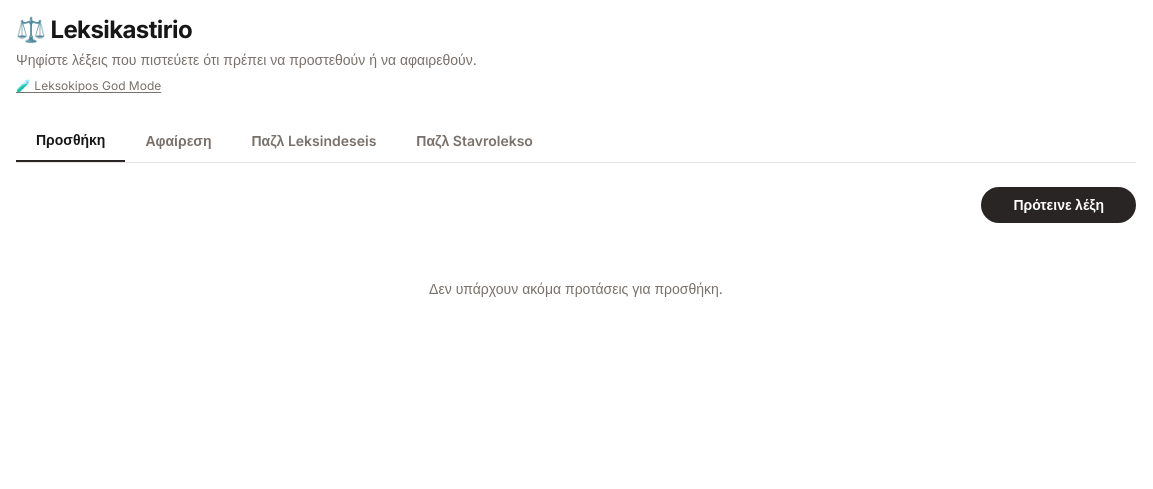
Test: CommunityQueueCard — per-game bodies › stavrolekso shows title and grid meta
Click the button "Παζλ Stavrolekso": (475, 141) [396,120,553,162]
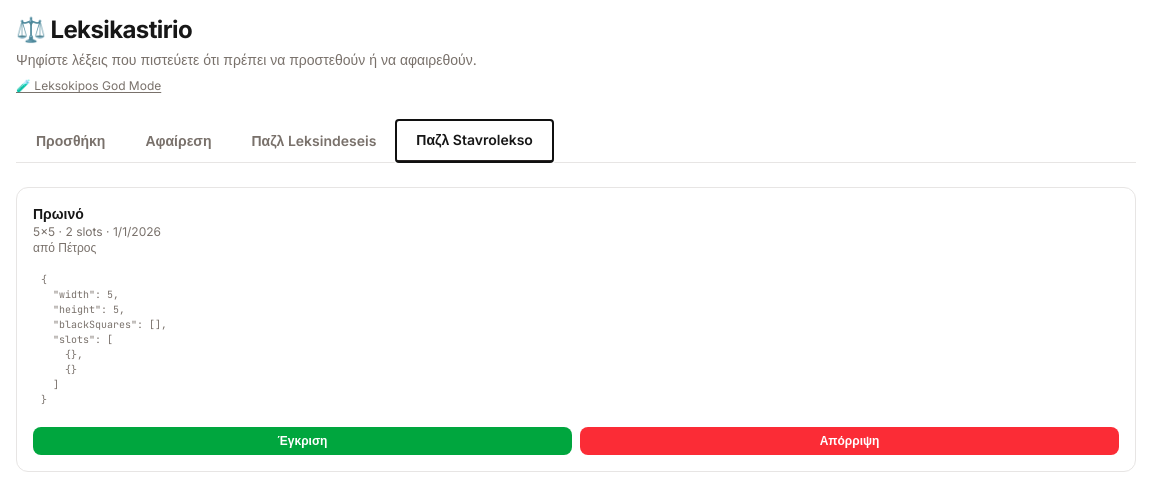
Expected: the text "Πρωινό" is shown, [33,205,84,222]
Expected: the text "5×5 · 2 slots · 1/1/2026" is shown, [33,224,161,240]
